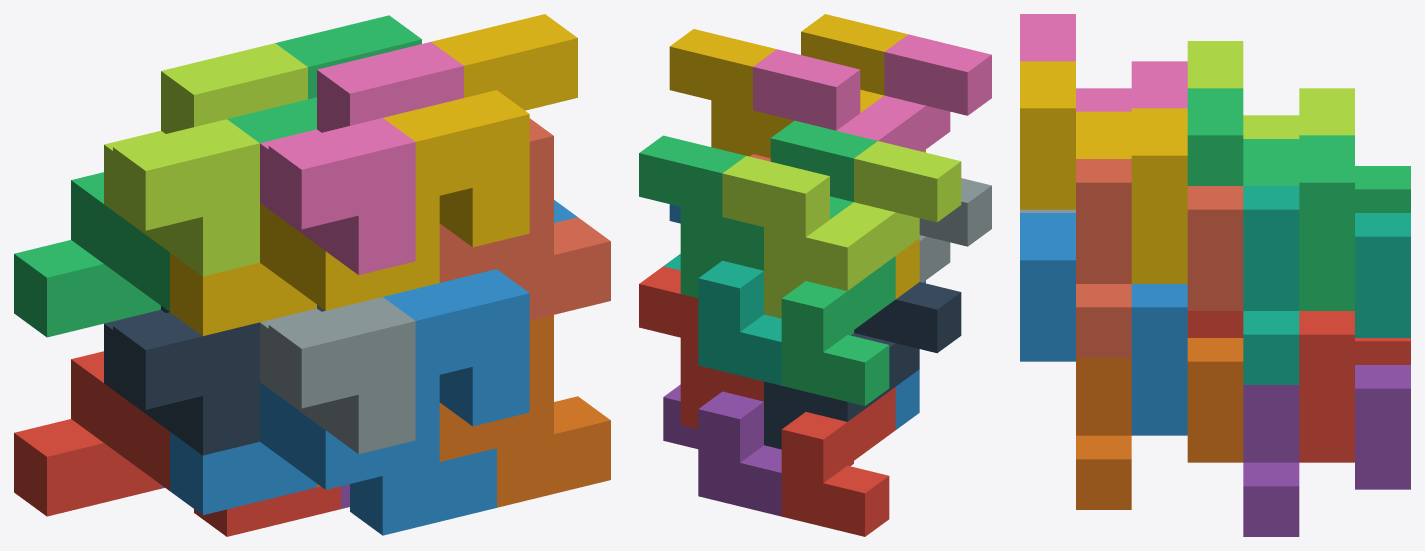
Rendered from tiling.obj.
3 renders of one model, left to right at view 1: azimuth 30°, elevation 25°; view 2: azimuth 150°, elevation 25°; view 3: azimuth 270°, elevation 25°, orthographic. The views are drawn at different scales.
Parts seen in each view (by area): view 1: copy_2_domain_3, copy_2_domain_4, copy_1_domain_2, copy_2_domain_8, copy_1_domain_1, copy_2_domain_2, copy_2_domain_1, copy_1_domain_4, copy_2_domain_6, copy_1_domain_3, copy_1_domain_6, copy_1_domain_8 (+1 smaller); view 2: copy_2_domain_3, copy_2_domain_4, copy_2_domain_7, copy_2_domain_8, copy_1_domain_3, copy_1_domain_1, copy_1_domain_5, copy_2_domain_1, copy_1_domain_7, copy_2_domain_5, copy_2_domain_2, copy_1_domain_4 (+1 smaller); view 3: copy_2_domain_8, copy_1_domain_7, copy_1_domain_8, copy_2_domain_6, copy_2_domain_7, copy_1_domain_5, copy_1_domain_6, copy_2_domain_5, copy_2_domain_3, copy_2_domain_4, copy_1_domain_3, copy_1_domain_1 (+1 smaller).
Boxes of the visible parts, <box> form: copy_2_domain_3: <box>104,43,307,276</box>; copy_2_domain_4: <box>260,42,463,274</box>; copy_1_domain_2: <box>170,375,496,535</box>; copy_2_domain_8: <box>383,14,577,247</box>; copy_1_domain_1: <box>14,351,340,536</box>; copy_2_domain_2: <box>260,297,415,454</box>; copy_2_domain_1: <box>104,306,259,455</box>; copy_1_domain_4: <box>170,196,439,335</box>; copy_2_domain_6: <box>383,200,577,426</box>; copy_1_domain_3: <box>14,172,169,337</box>; copy_1_domain_6: <box>317,315,610,507</box>; copy_1_domain_8: <box>439,118,610,320</box>; copy_2_domain_3: <box>722,141,961,318</box>; copy_2_domain_4: <box>753,34,991,151</box>; copy_2_domain_7: <box>639,120,877,298</box>; copy_2_domain_8: <box>669,14,907,158</box>; copy_1_domain_3: <box>781,196,895,405</box>; copy_1_domain_1: <box>781,387,895,536</box>; copy_1_domain_5: <box>663,384,781,516</box>; copy_2_domain_1: <box>764,282,961,449</box>; copy_1_domain_7: <box>663,254,781,385</box>; copy_2_domain_5: <box>639,266,763,428</box>; copy_2_domain_2: <box>919,178,991,282</box>; copy_1_domain_4: <box>860,89,925,298</box>; copy_2_domain_8: <box>1020,61,1187,283</box>; copy_1_domain_7: <box>1243,186,1410,384</box>; copy_1_domain_8: <box>1076,159,1243,357</box>; copy_2_domain_6: <box>1020,213,1187,435</box>; copy_2_domain_7: <box>1187,88,1354,310</box>; copy_1_domain_5: <box>1243,365,1410,536</box>; copy_1_domain_6: <box>1076,338,1243,509</box>; copy_2_domain_5: <box>1187,311,1354,462</box>; copy_2_domain_3: <box>1187,41,1354,138</box>; copy_2_domain_4: <box>1020,14,1187,111</box>; copy_1_domain_3: <box>1243,139,1410,212</box>; copy_1_domain_1: <box>1355,338,1410,364</box>.
Bounding box in the file's own units: 7 × 8 × 7.
